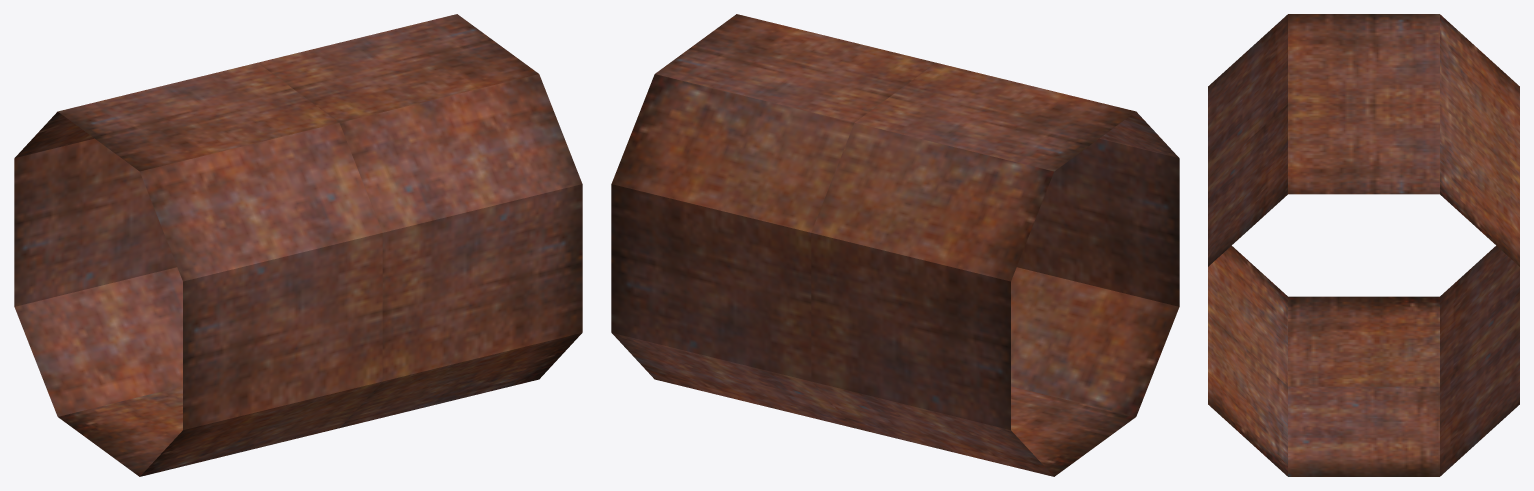
Rendered from MESH_ESGOTO_PIPE.fbx.
3 renders of one model, left to right at view 1: azimuth 30°, elevation 25°; view 2: azimuth 150°, elevation 25°; view 3: azimuth 270°, elevation 25°, orthographic. The views are drawn at different scales.
Visible parts, largest first — view 1: MESH_ESGOTO_PIPE; view 2: MESH_ESGOTO_PIPE; view 3: MESH_ESGOTO_PIPE.
Boxes of the visible parts, x1=… form: MESH_ESGOTO_PIPE: x1=14, y1=14, x2=582, y2=476; MESH_ESGOTO_PIPE: x1=611, y1=14, x2=1179, y2=476; MESH_ESGOTO_PIPE: x1=1208, y1=14, x2=1519, y2=476.
Size of the model in its own units: 4 by 2.92 by 2.92.
